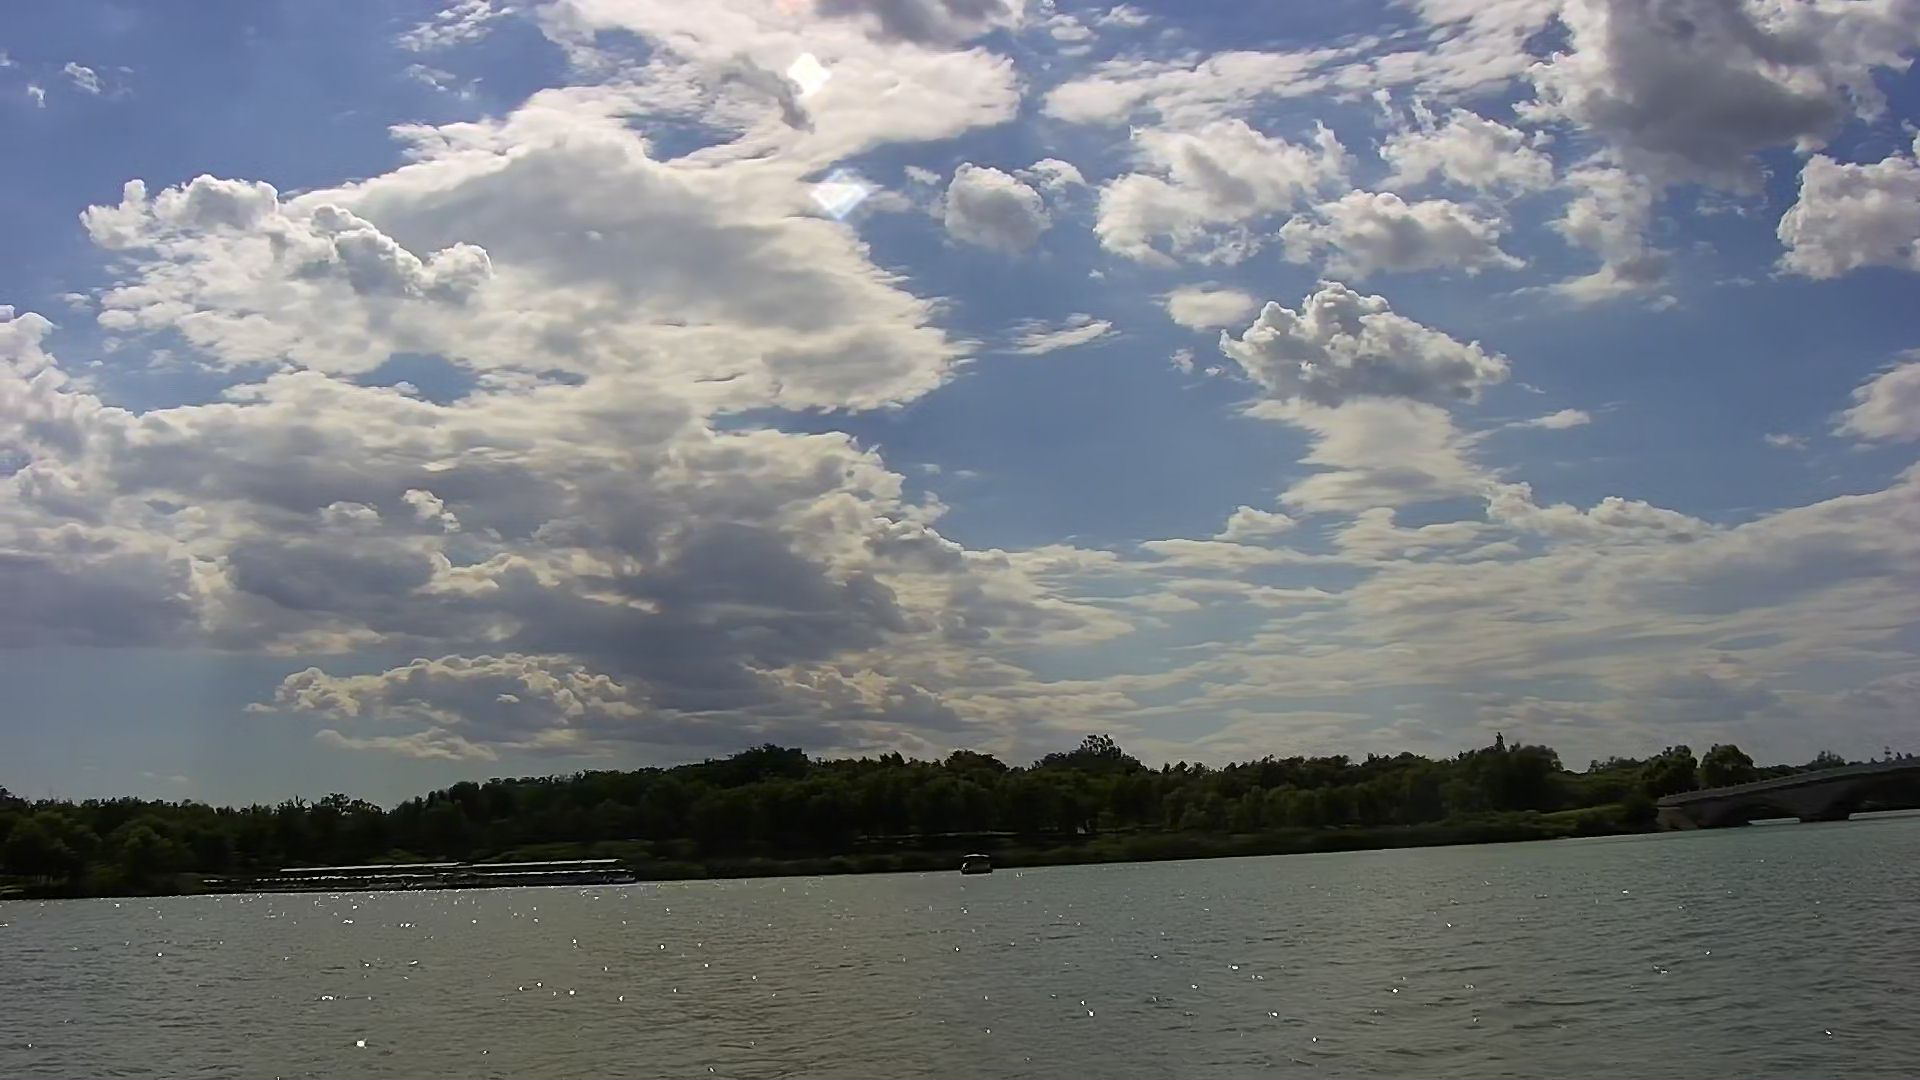boat: (957, 843, 997, 876)
bridge: (1640, 760, 1920, 822)
harbor: (272, 856, 640, 895)
